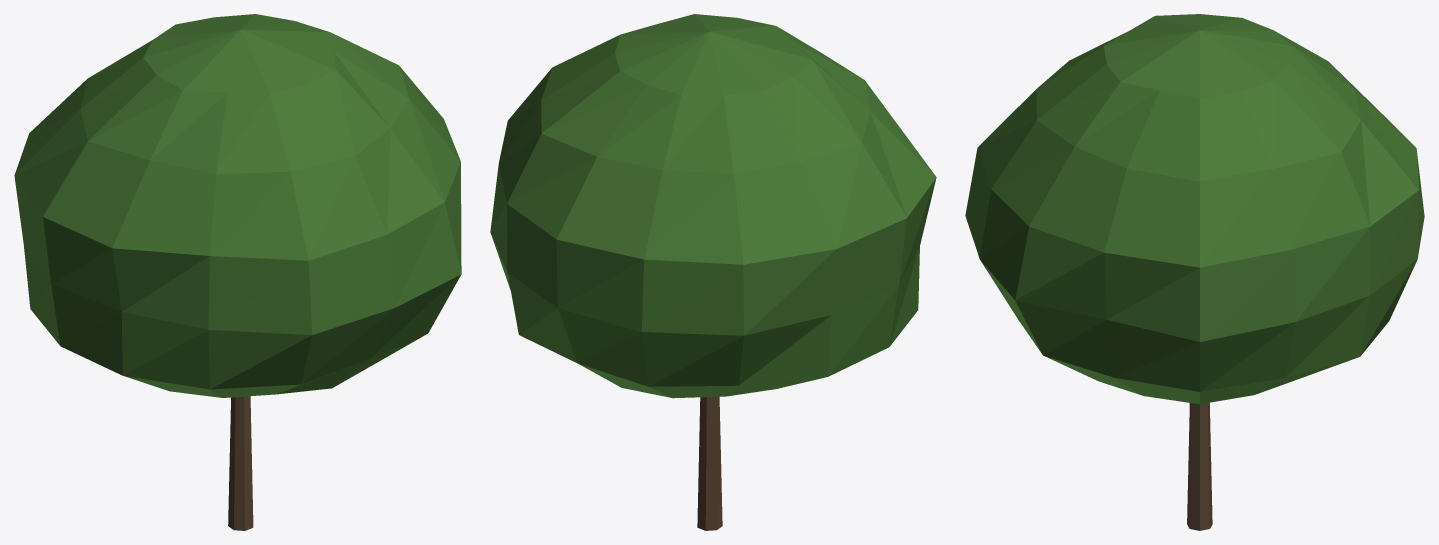
The model's file is broadleaf.L1.8c723f26.glb.
3 renders of one model, left to right at view 1: azimuth 30°, elevation 25°; view 2: azimuth 150°, elevation 25°; view 3: azimuth 270°, elevation 25°, orthographic.
Visible parts, largest first — view 1: A-TREES-BROADLEAF; view 2: A-TREES-BROADLEAF; view 3: A-TREES-BROADLEAF.
Boxes of the visible parts, <box> form: A-TREES-BROADLEAF: <box>14,14,461,530</box>; A-TREES-BROADLEAF: <box>490,14,936,530</box>; A-TREES-BROADLEAF: <box>965,14,1424,530</box>.
Size of the model in its own units: 8.68 by 10 by 8.41.
